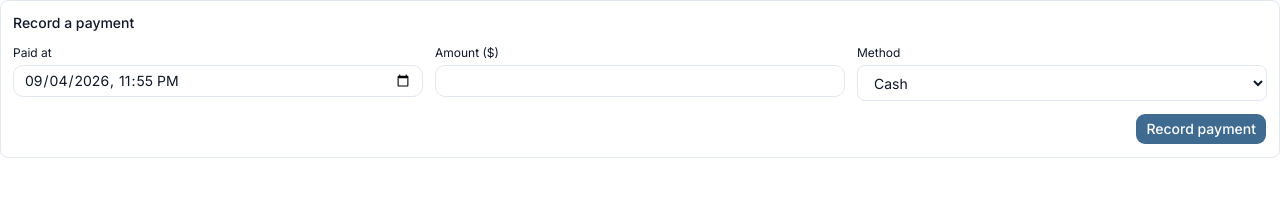
Test: RecordBhphPaymentForm › surfaces a backend 400 as a human-readable error
In the number field with test id "record-bhph-payment-amount": [640, 81] box [435, 65, 845, 97], type "150"
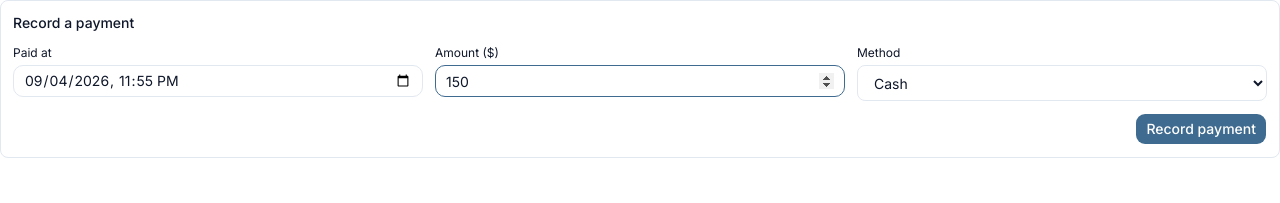
Click the button with test id "record-bhph-payment-submit": [1201, 129] box [1135, 113, 1267, 145]
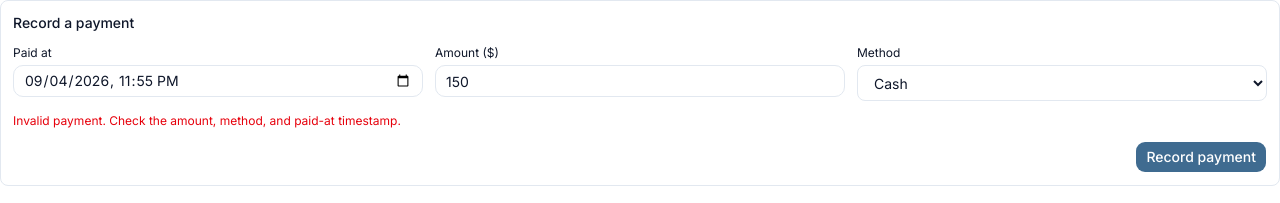
Result: the message with test id "record-bhph-payment-error" shows "Invalid payment" at [13, 113, 401, 128]
